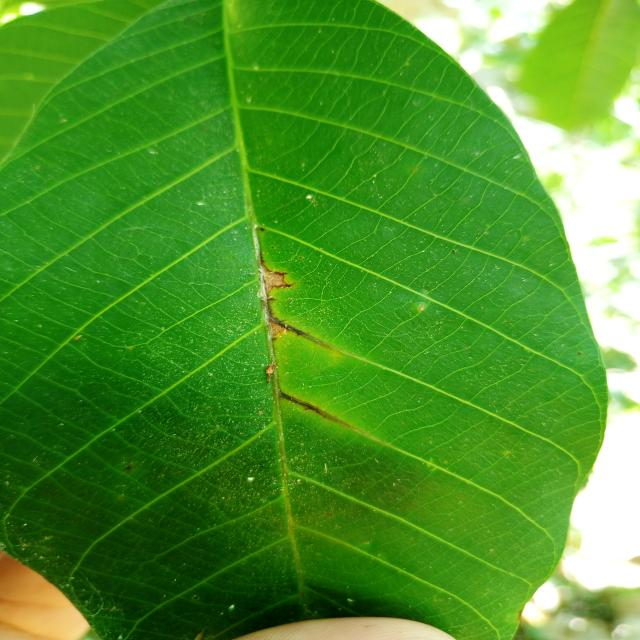Corynespora: (278, 391, 341, 423), (268, 316, 305, 337)
Leaf-Blight: (263, 267, 285, 292)
